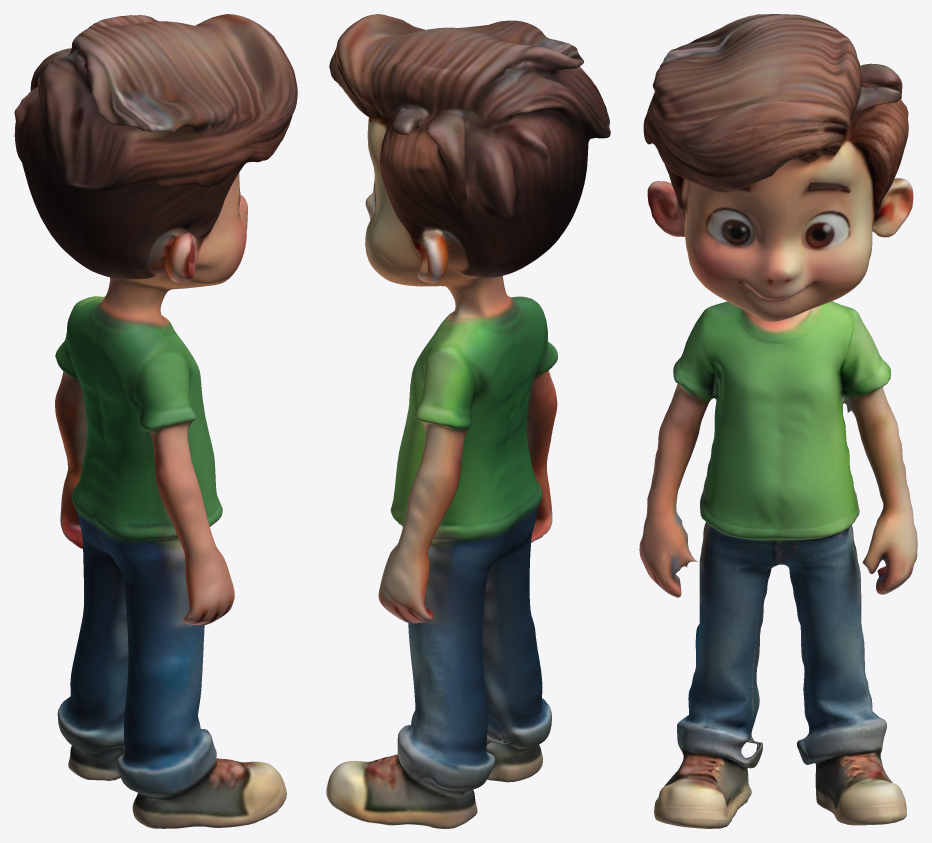
Rendered from player_character.glb.
3 renders of one model, left to right at view 1: azimuth 30°, elevation 25°; view 2: azimuth 150°, elevation 25°; view 3: azimuth 270°, elevation 25°, orthographic.
Parts seen in each view (by area): view 1: tripo_node_7e965738-4790-4af5-8e28-2853ff5896af; view 2: tripo_node_7e965738-4790-4af5-8e28-2853ff5896af; view 3: tripo_node_7e965738-4790-4af5-8e28-2853ff5896af.
Boxes of the visible parts, x1,y1,x2,y2 form: tripo_node_7e965738-4790-4af5-8e28-2853ff5896af: (14,14,297,828); tripo_node_7e965738-4790-4af5-8e28-2853ff5896af: (326,14,610,828); tripo_node_7e965738-4790-4af5-8e28-2853ff5896af: (639,14,917,828).
Bounding box in the file's own units: 0.3296 × 0.9629 × 0.3201.
1 material, 1 textured.
